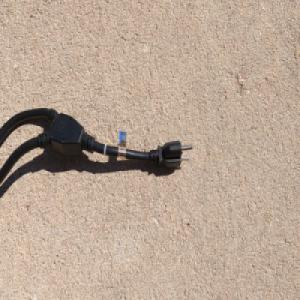Wire: (0, 105, 195, 202)
